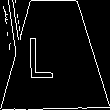L_N: (40, 29, 68, 80)
